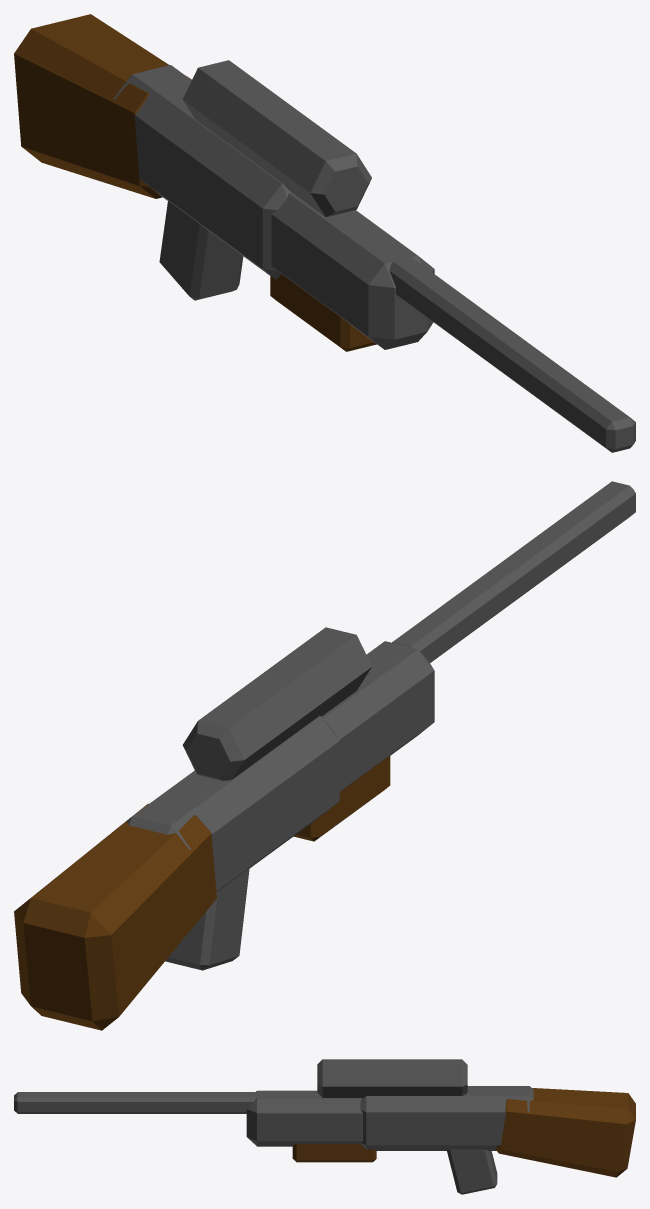
Rendered from sniper.fbx.
3 renders of one model, top to bottom at view 1: azimuth 30°, elevation 25°; view 2: azimuth 150°, elevation 25°; view 3: azimuth 270°, elevation 25°, orthographic. The views are drawn at different scales.
Visible parts, largest first — view 1: Cube_2, Cube, Cube_4, Cylinder, Cube_1, Cube_3, Cube_5; view 2: Cube_2, Cube, Cylinder, Cube_1, Cube_4, Cube_3, Cube_5; view 3: Cube_2, Cube, Cube_4, Cylinder, Cube_1, Cube_3, Cube_5.
Boxes of the visible parts, x1,y1,x2,y2 form: Cube_2: [14, 14, 191, 198]; Cube: [113, 65, 291, 279]; Cube_4: [271, 192, 434, 349]; Cylinder: [182, 60, 371, 216]; Cube_1: [389, 257, 635, 452]; Cube_3: [159, 201, 243, 300]; Cube_5: [270, 274, 376, 351]; Cube_2: [14, 803, 216, 1030]; Cube: [114, 716, 339, 891]; Cylinder: [182, 627, 371, 780]; Cube_1: [392, 481, 635, 662]; Cube_4: [321, 641, 434, 791]; Cube_3: [165, 868, 249, 970]; Cube_5: [294, 755, 390, 841]; Cube_2: [495, 1088, 635, 1177]; Cube: [360, 1086, 533, 1150]; Cube_4: [246, 1090, 362, 1146]; Cylinder: [317, 1059, 467, 1097]; Cube_1: [14, 1092, 256, 1113]; Cube_3: [447, 1149, 497, 1194]; Cube_5: [292, 1144, 376, 1162].
Bounding box in the file's own units: 87.82 × 199 × 886.
